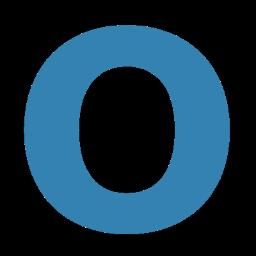o: (18, 18, 234, 238)
